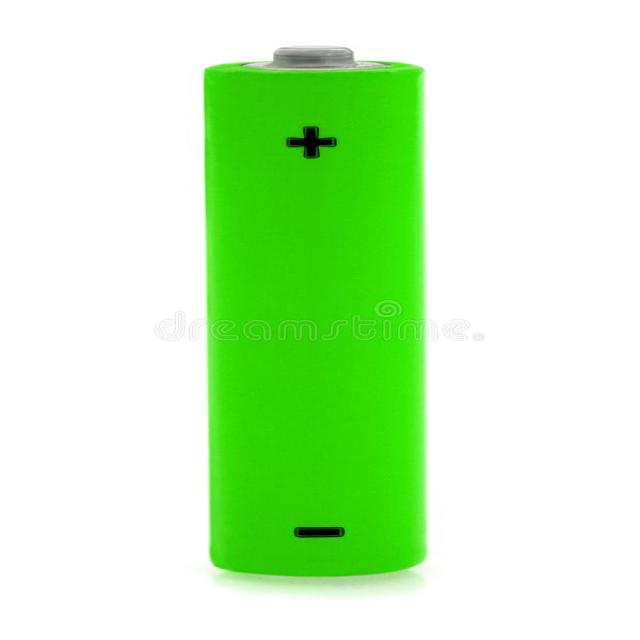Hazard: (196, 30, 429, 584)
